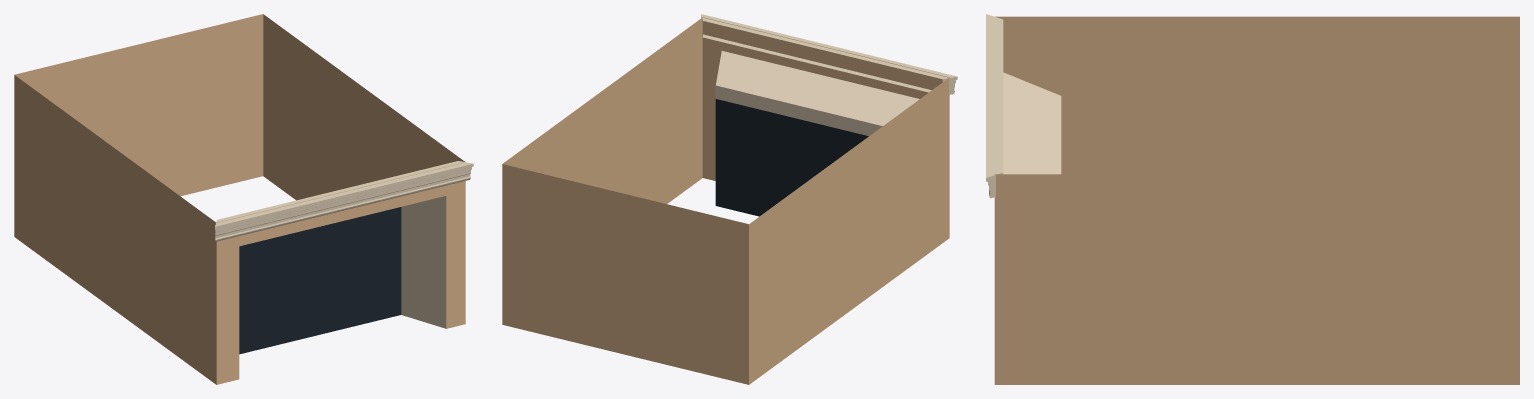
3 renders of one model, left to right at view 1: azimuth 30°, elevation 25°; view 2: azimuth 150°, elevation 25°; view 3: azimuth 270°, elevation 25°, orthographic. The views are drawn at different scales.
Parts seen in each view (by area): view 1: B1_GF_01; view 2: B1_GF_01; view 3: B1_GF_01.
Boxes of the visible parts, bbox=[...] form: B1_GF_01: bbox=[14, 14, 473, 384]; B1_GF_01: bbox=[502, 14, 957, 384]; B1_GF_01: bbox=[986, 14, 1519, 384].
Bounding box in the file's own units: 5.9 × 3.53 × 8.12.
